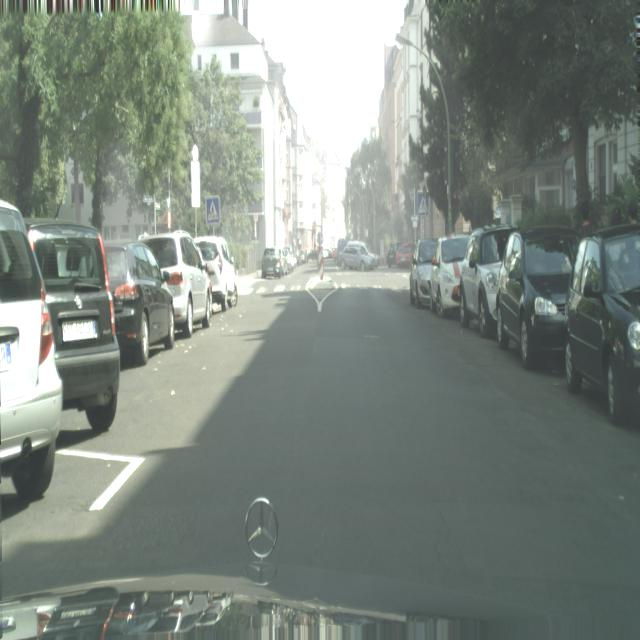person: (27, 220, 121, 432), (0, 200, 64, 499), (564, 224, 640, 428), (495, 226, 579, 368), (104, 239, 175, 367), (138, 231, 212, 337), (458, 222, 518, 338), (429, 234, 470, 318), (194, 236, 239, 312), (409, 238, 438, 308), (335, 241, 379, 272), (262, 247, 283, 279), (396, 242, 415, 268), (386, 244, 398, 268)
